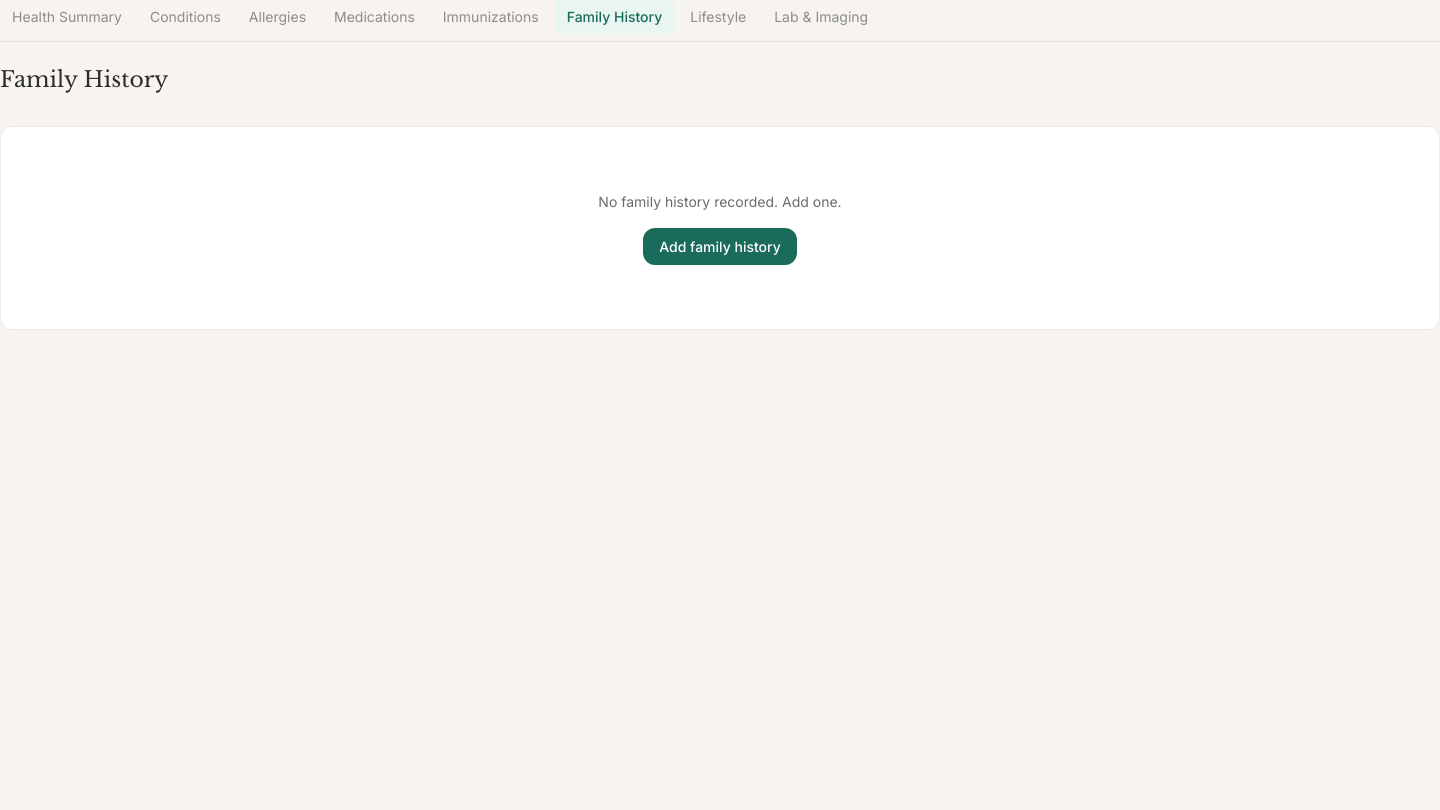
Test: FamilyHistoryPage › opens add form
Expected: the text "No family history recorded. Add one." is shown, 598,194 -> 842,210
Click the button "Add family history". click: (720, 247)
box: 643,228 -> 797,266
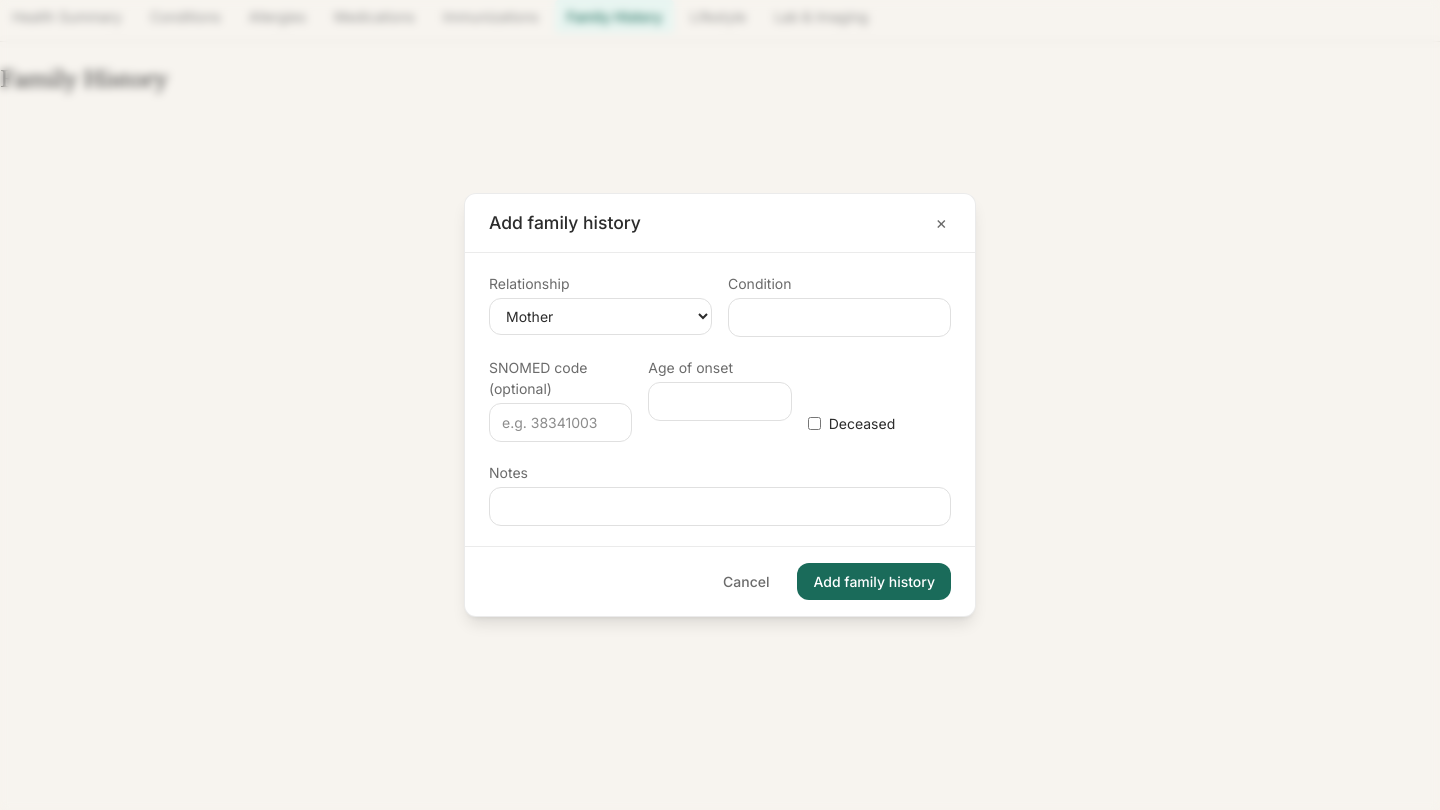
Now the heading "Add family history" is shown, box 489,210 -> 641,236
Now the field labelled "Condition" is shown, box 728,298 -> 951,337
